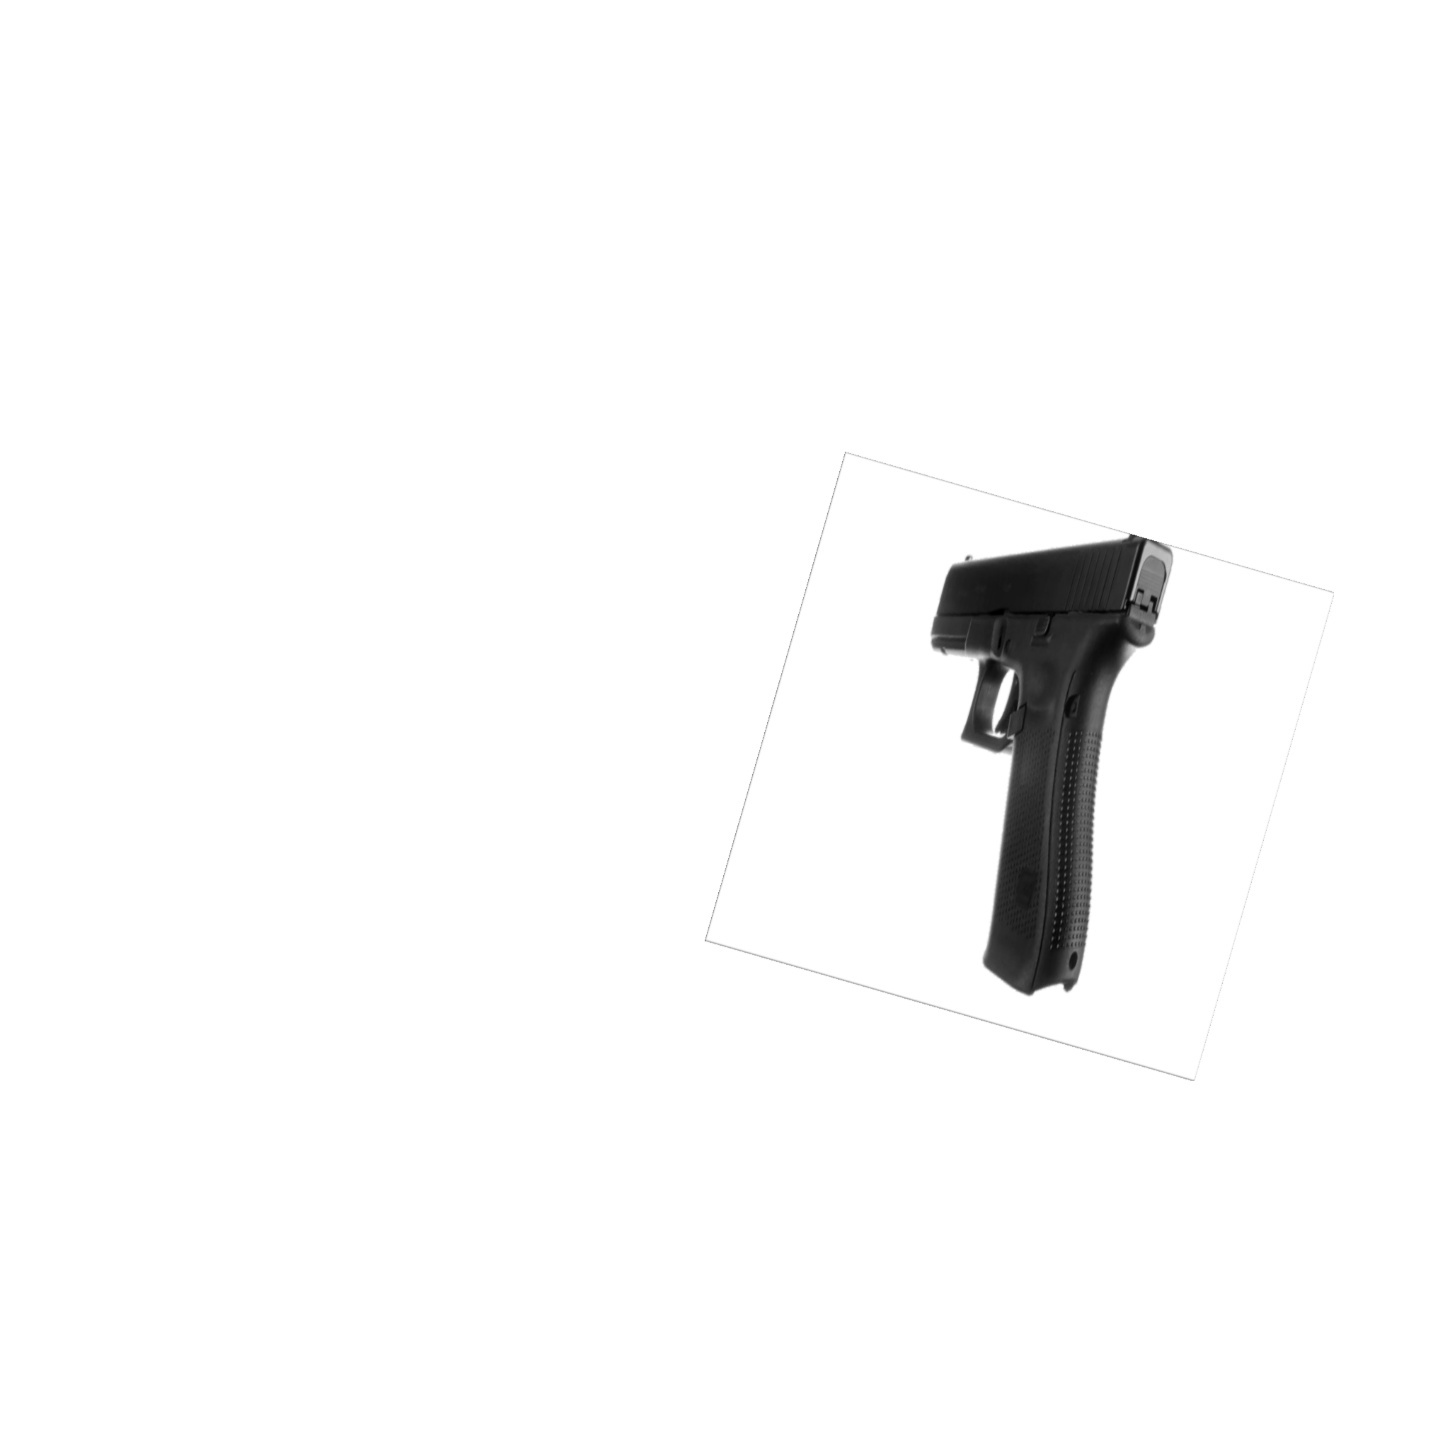gun: (926, 536, 1176, 1006)
